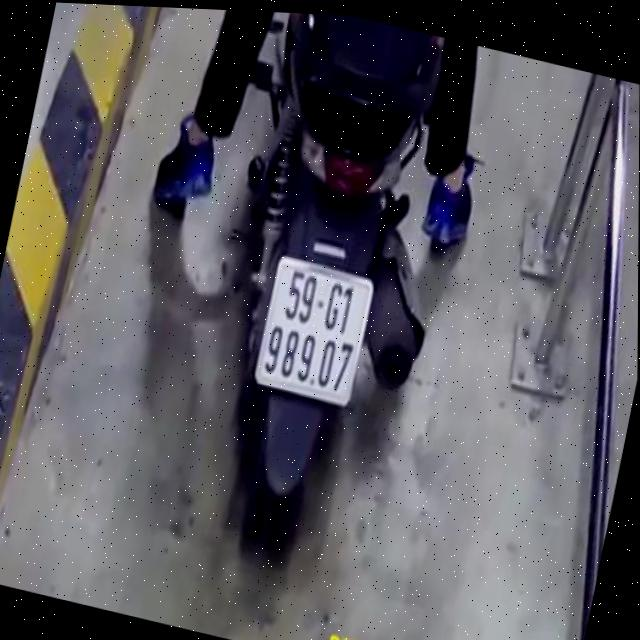motorcycle: (164, 7, 487, 603)
plate: (251, 254, 378, 412)
